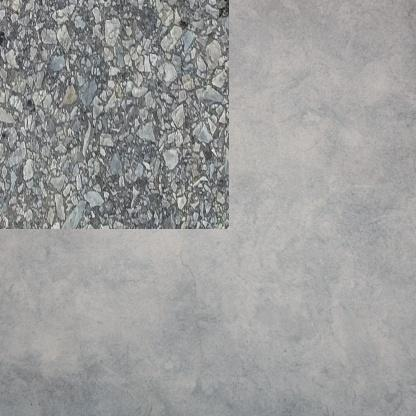Cracks: (191, 0, 212, 22)
